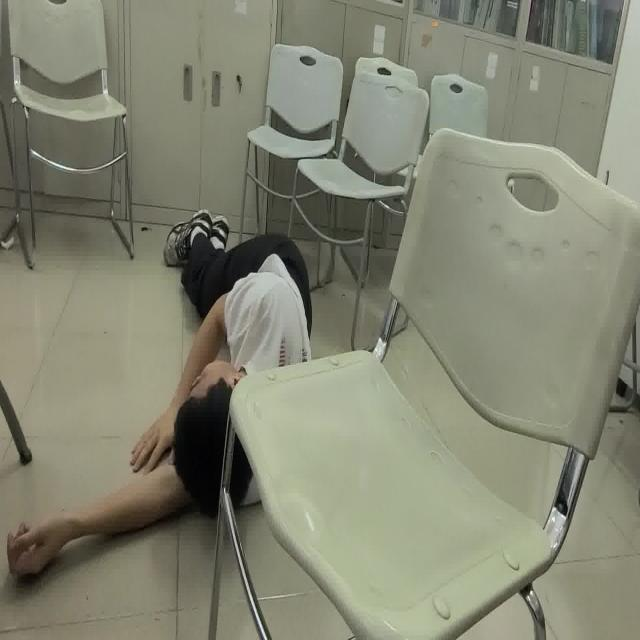Fall-Detected: (8, 204, 314, 578)
